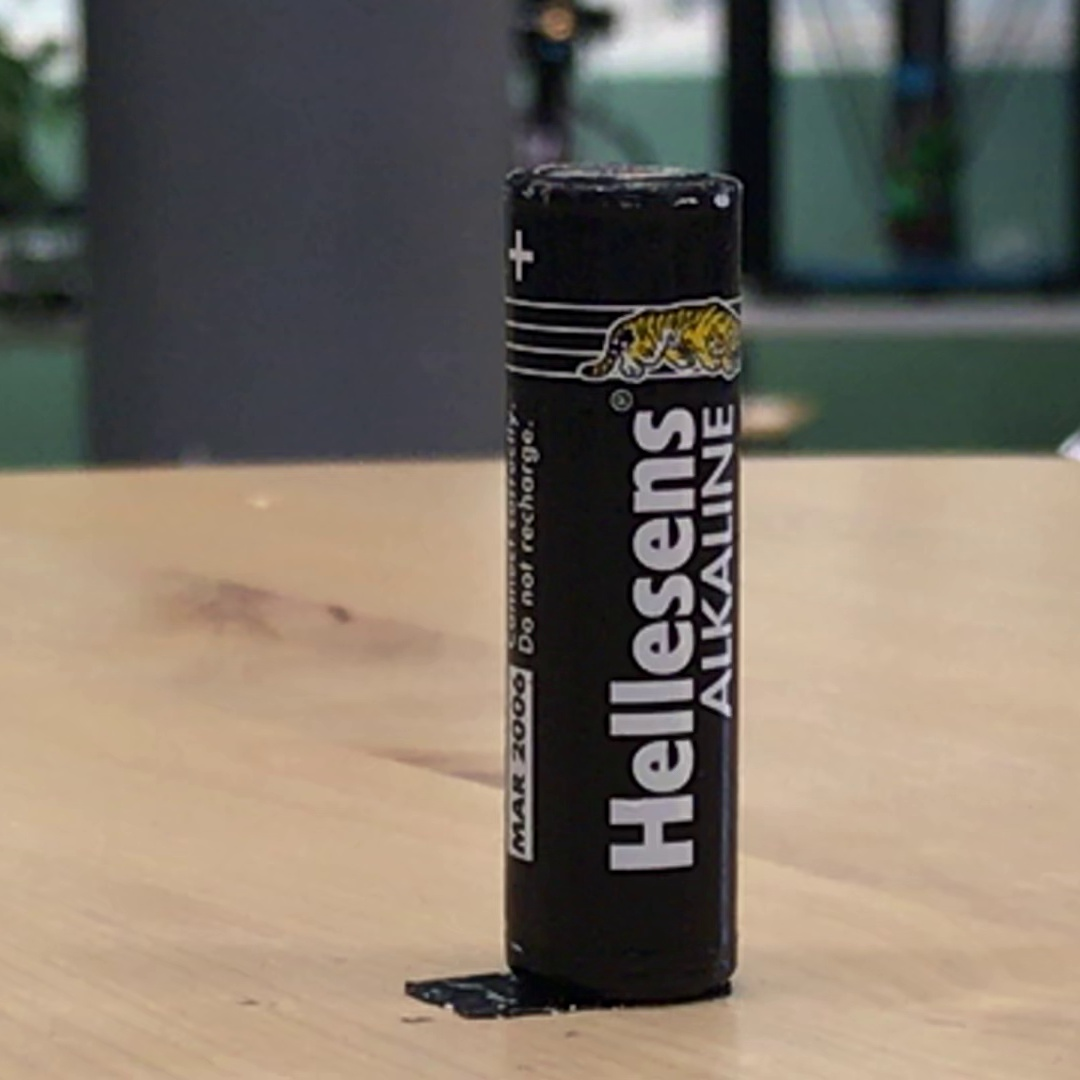keyword: (693, 397, 742, 727)
